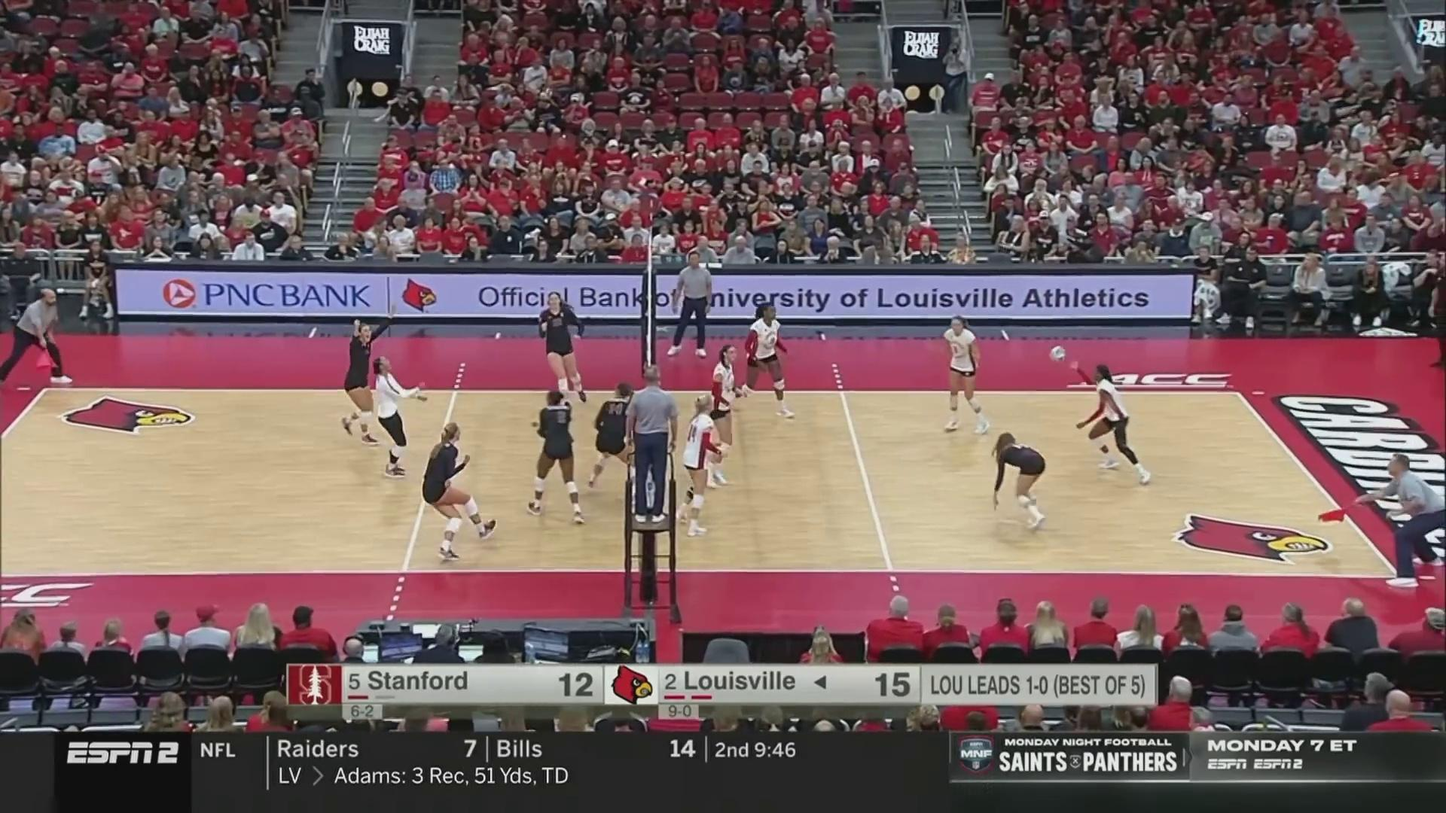player: (425, 422, 500, 557), (1077, 365, 1155, 484), (725, 302, 800, 414), (527, 387, 580, 525), (589, 382, 650, 492), (677, 394, 724, 534), (343, 312, 392, 442), (374, 356, 425, 475), (538, 291, 588, 408), (994, 432, 1053, 531), (708, 346, 747, 488), (941, 318, 989, 430)
refree: (1343, 455, 1446, 584), (622, 369, 679, 522), (0, 289, 74, 385), (668, 252, 715, 355)
